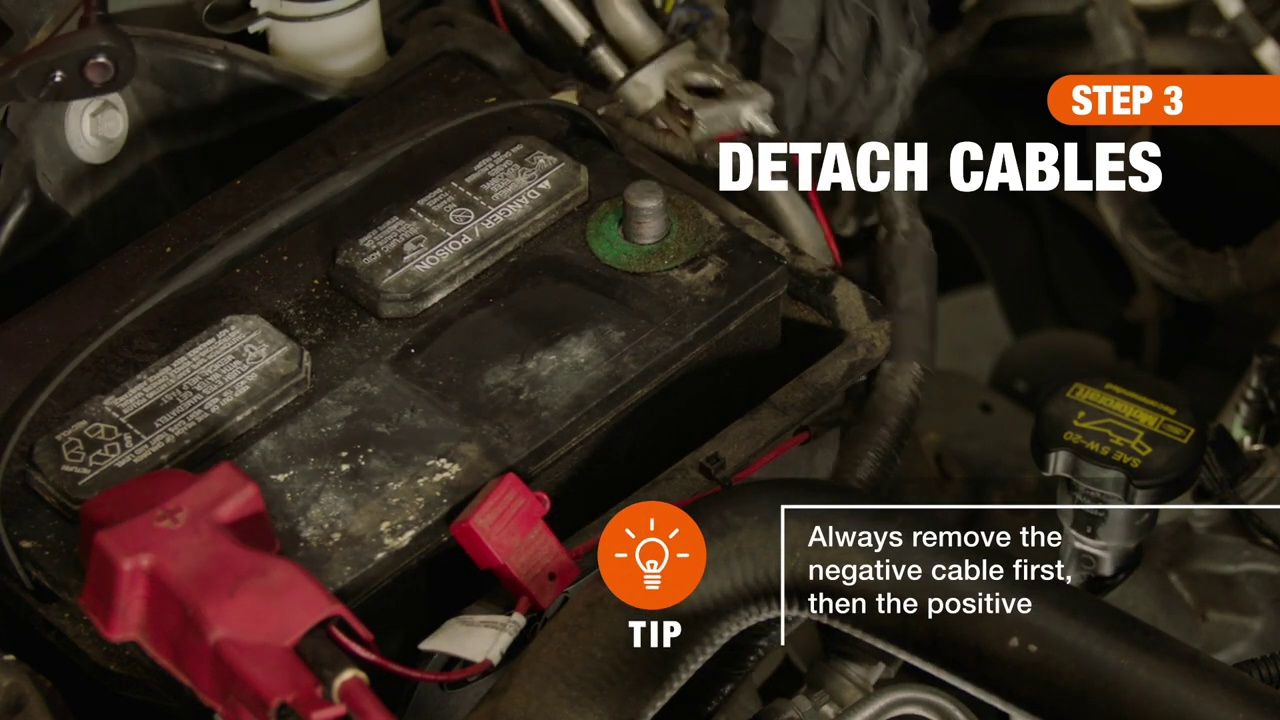battery: (14, 74, 793, 667)
neg_disconnected: (562, 163, 733, 288)
pos_connected: (69, 454, 343, 671)
